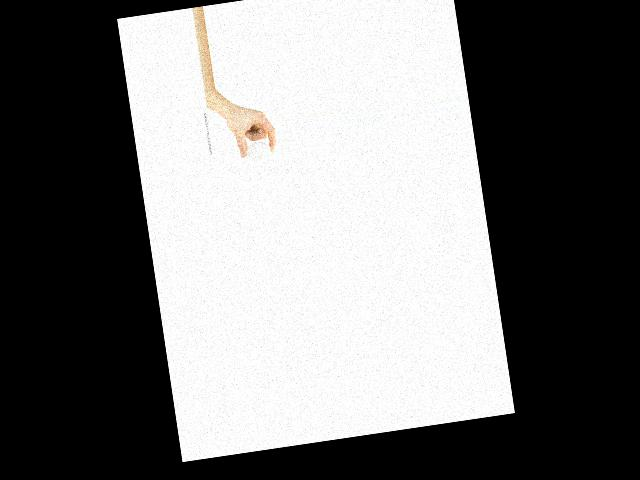egg: (245, 139, 271, 160)
